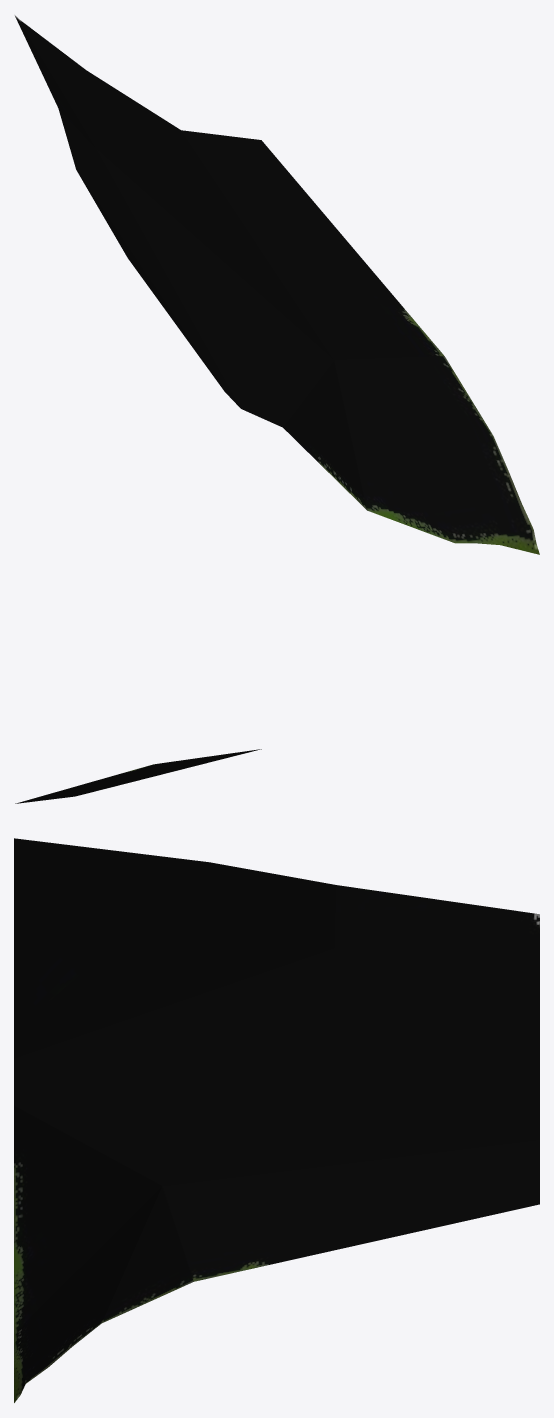
3 views of the same model, one above another, from view 1: azimuth 30°, elevation 25°; view 2: azimuth 150°, elevation 25°; view 3: azimuth 270°, elevation 25° (orthographic). The views are drawn at different scales.
Size of the model in its own units: 1.43 by 1.32 by 1.67.
Materials: 3 (3 with a texture image).
